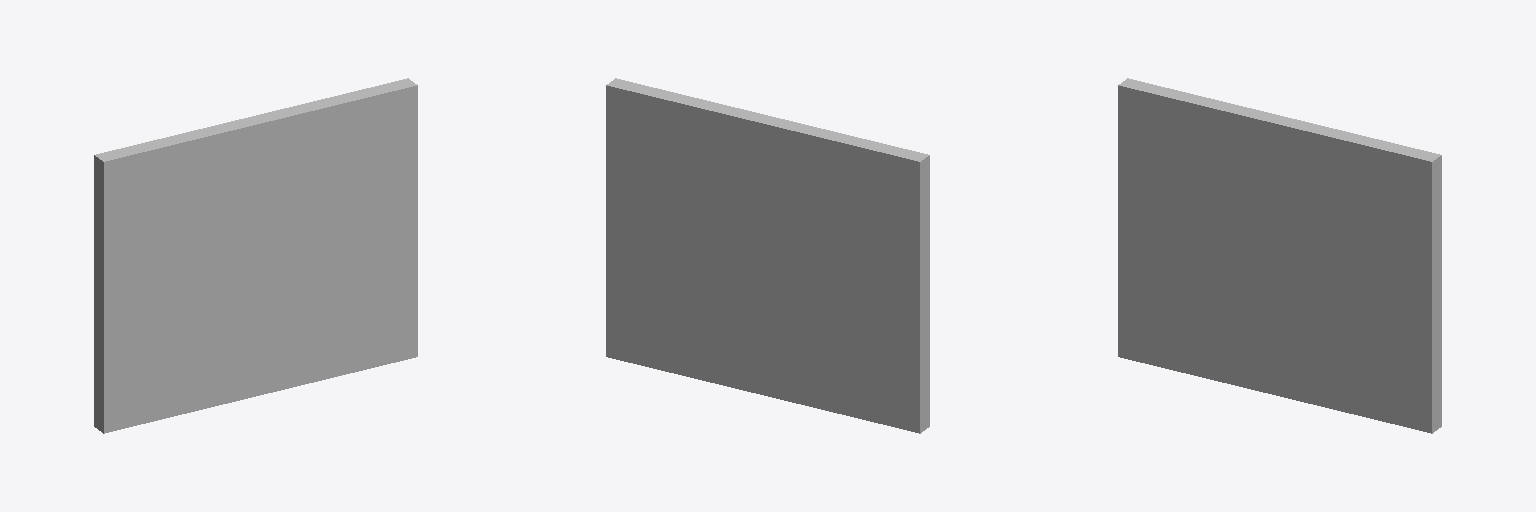
Rendered from gate.obj.
The picture shows the model from 3 angles: view 1: azimuth 30°, elevation 25°; view 2: azimuth 150°, elevation 25°; view 3: azimuth 330°, elevation 25°; orthographic projection.
Visible parts, largest first — view 1: pCube1; view 2: pCube1; view 3: pCube1.
Boxes of the visible parts, <box> form: pCube1: <box>94,78,417,433</box>; pCube1: <box>606,78,929,433</box>; pCube1: <box>1118,78,1441,433</box>.
Bounding box in the file's own units: 7.31 × 6.04 × 0.3853.